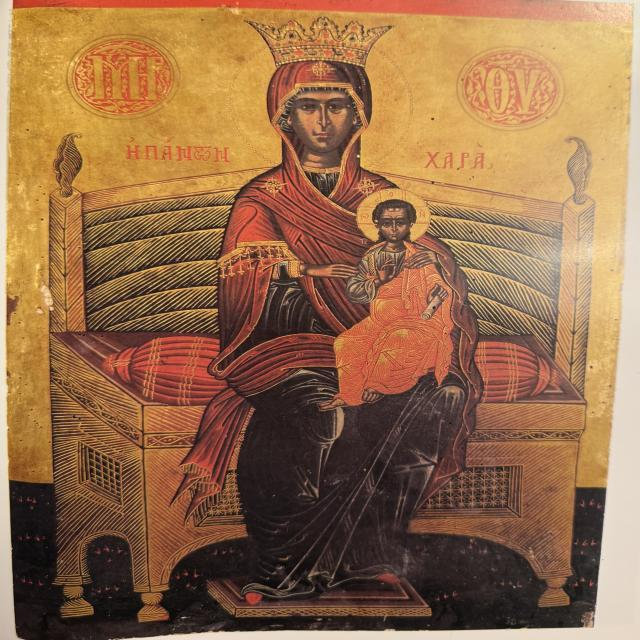aura: (220, 40, 421, 170), (355, 188, 437, 245)
christ_child: (334, 187, 478, 411)
christ_hand: (365, 255, 405, 289)
crown: (242, 16, 403, 70)
mary_and_child: (157, 15, 487, 618)
scroll: (411, 285, 459, 321)
